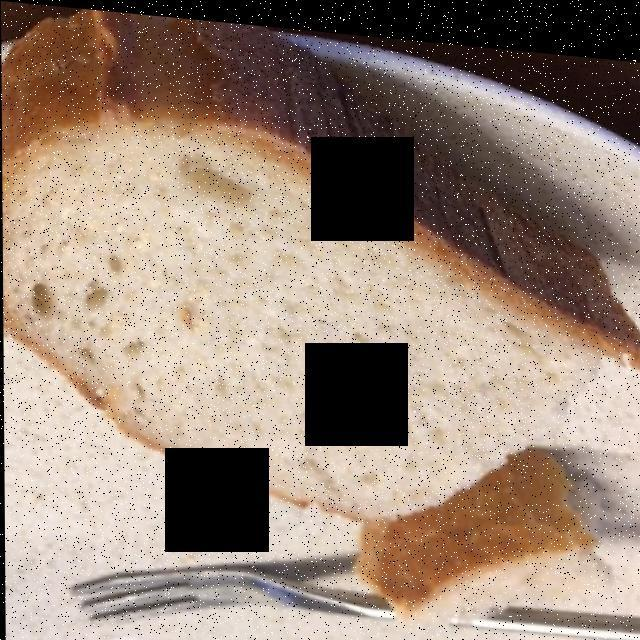bread: (2, 18, 634, 623)
